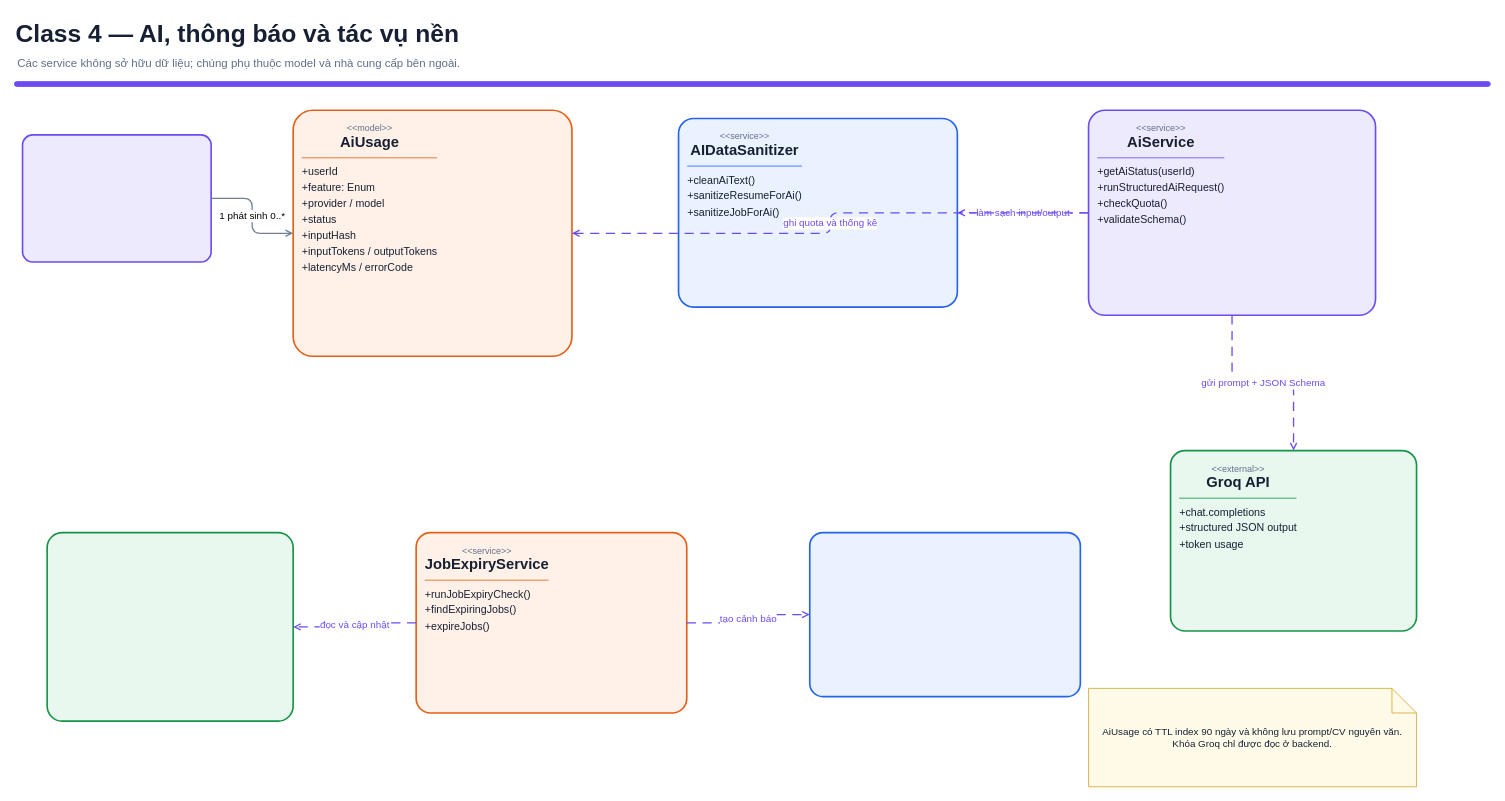
The diagram is 1505 pixels wide and 801 high, and some of its shapes have lost their labels. The centre of each missing label's shape, as x and y in pixels:
"<<model>> Job +status +expiryDate +expiryNotifiedAt +expiredNotifiedAt" goes at point (170, 626).
"<<model>> User +_id +role" goes at point (116, 198).
"<<service>> NotificationService +createNotification() +createNotificationsBulk()" goes at point (945, 614).
